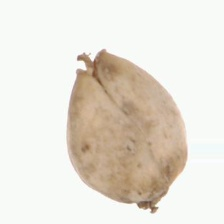L1: (73, 47, 106, 81), (131, 187, 173, 210)
L2: (65, 47, 188, 211)
